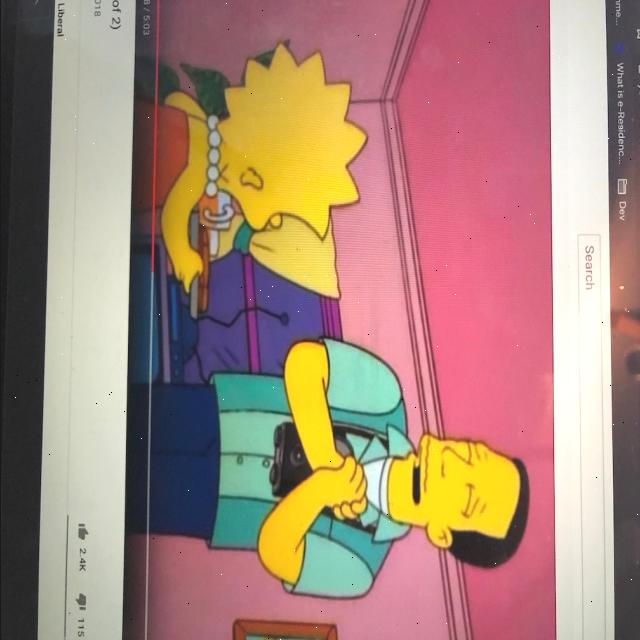Lisa Simpson: (199, 35, 370, 244)
